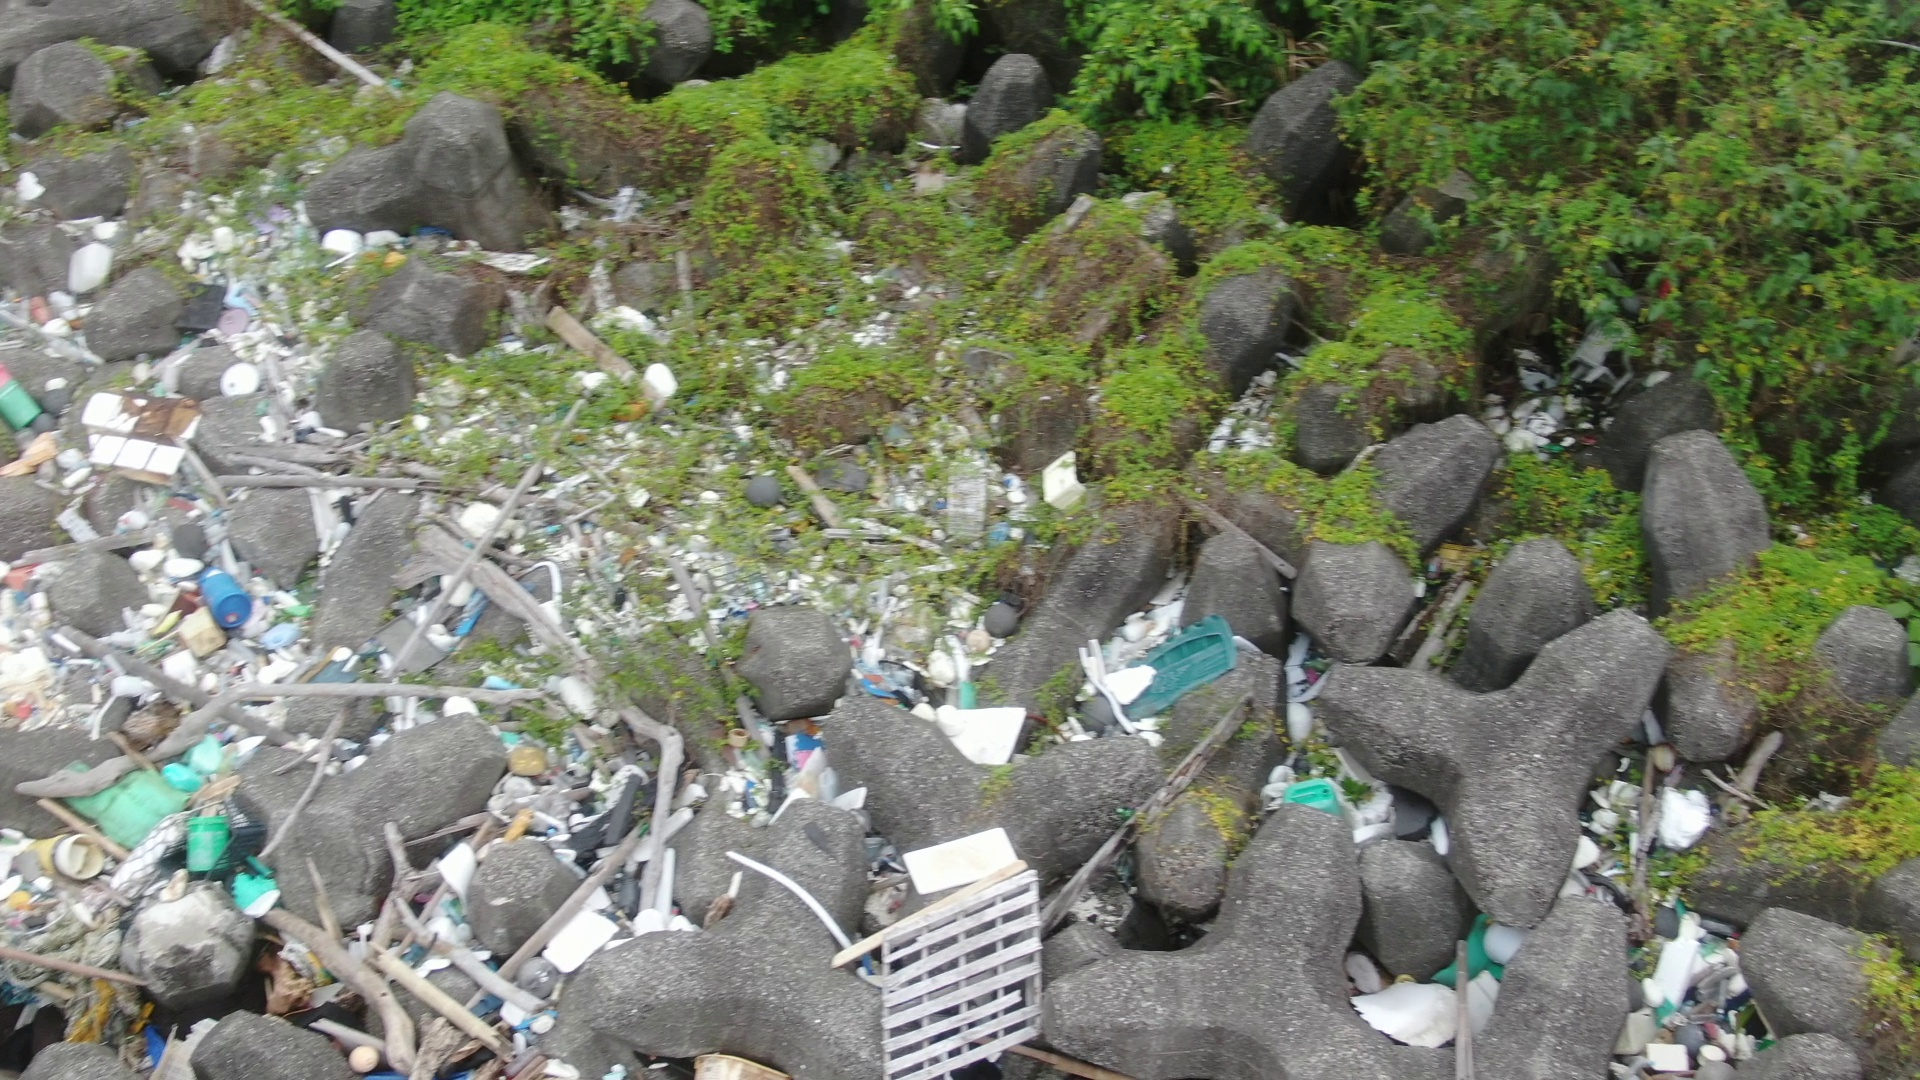garbage: (7, 558, 535, 1080), (1, 189, 303, 491), (1557, 752, 1809, 1073), (829, 814, 1062, 1080), (543, 663, 702, 971), (839, 572, 1046, 793), (1477, 305, 1702, 456), (1058, 582, 1250, 746), (1321, 915, 1534, 1056), (520, 281, 684, 426), (1259, 756, 1452, 865), (720, 676, 837, 849), (404, 477, 575, 551), (984, 438, 1112, 513), (311, 204, 429, 284), (659, 1031, 800, 1080)
